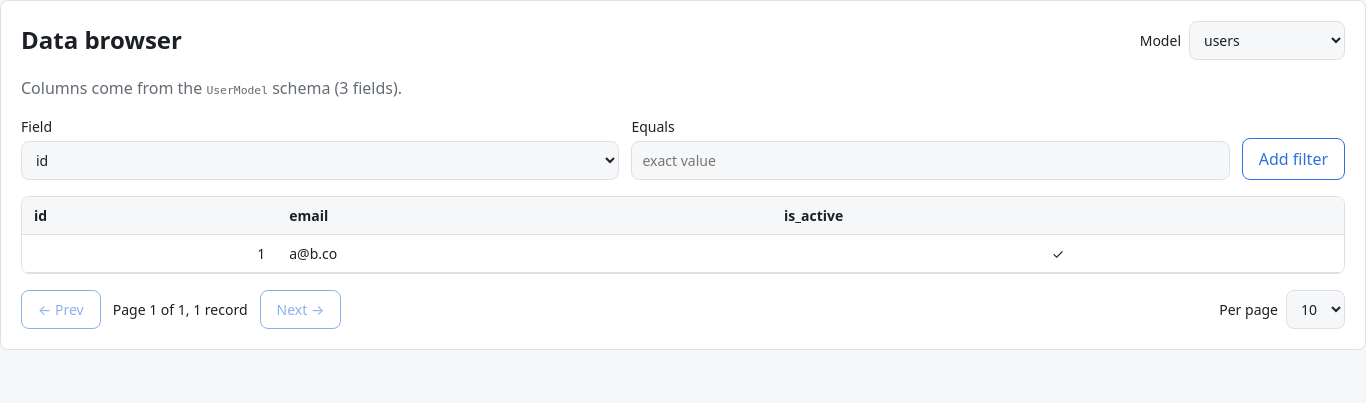
Test: renders columns from the schema and sends filters as query params
Check: the column headings read "id", "email", "is_active", in this order, box [22,197,277,234]; [277,197,772,234]; [772,197,1344,234]
Check: the text "✓" is shown, box [772,234,1344,272]
Select "email" in the dropdown labelled "Field" at {"x": 320, "y": 160}, box [21,141,619,180]
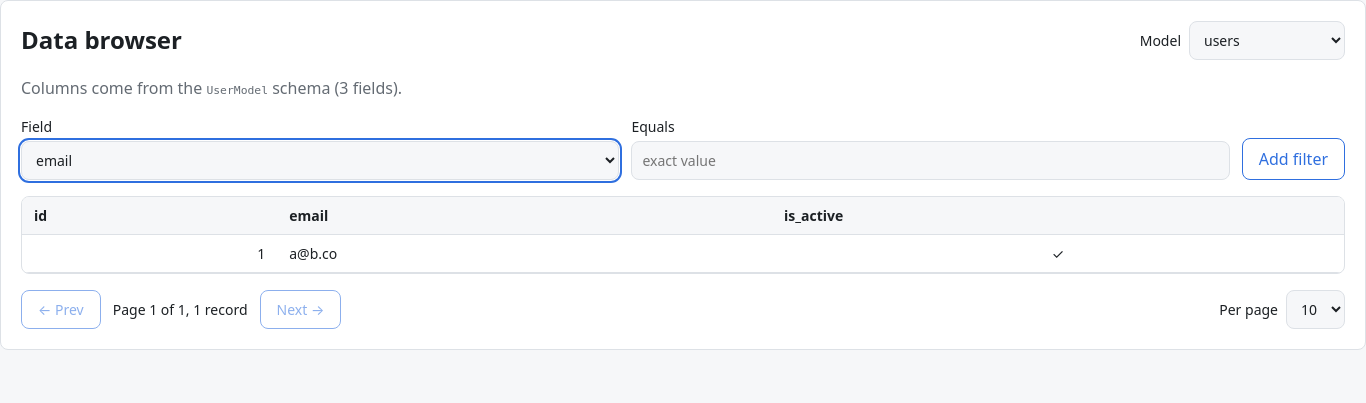
Type "a@b.co" into the field labelled "Equals" at {"x": 931, "y": 160}, box [631,141,1230,180]
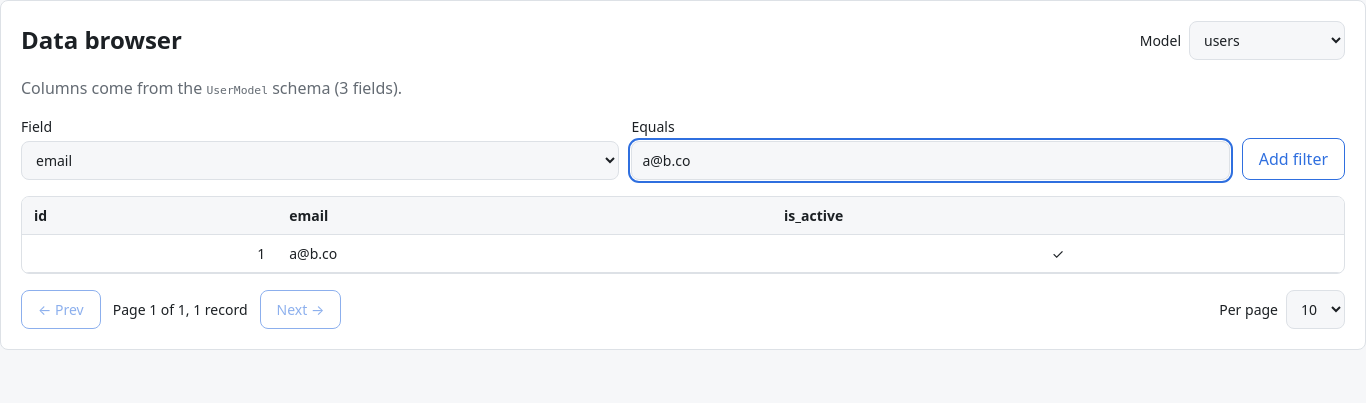
Click the button "Add filter" at {"x": 1293, "y": 159}, box [1242,138,1345,180]
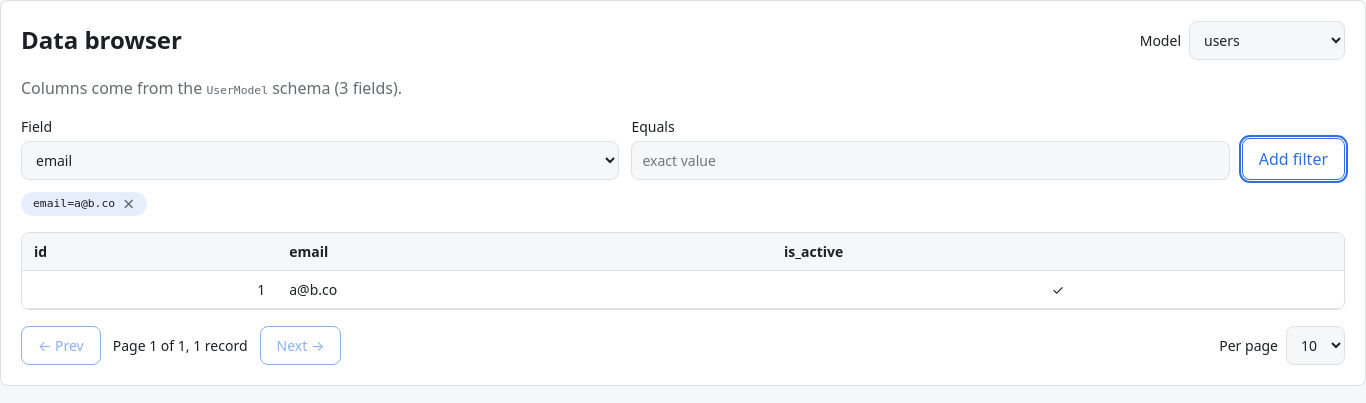
Check: the cell "a@b.co" is shown, box [277,270,772,308]
Check: the text "email=a@b.co" is shown, box [33,196,115,213]
